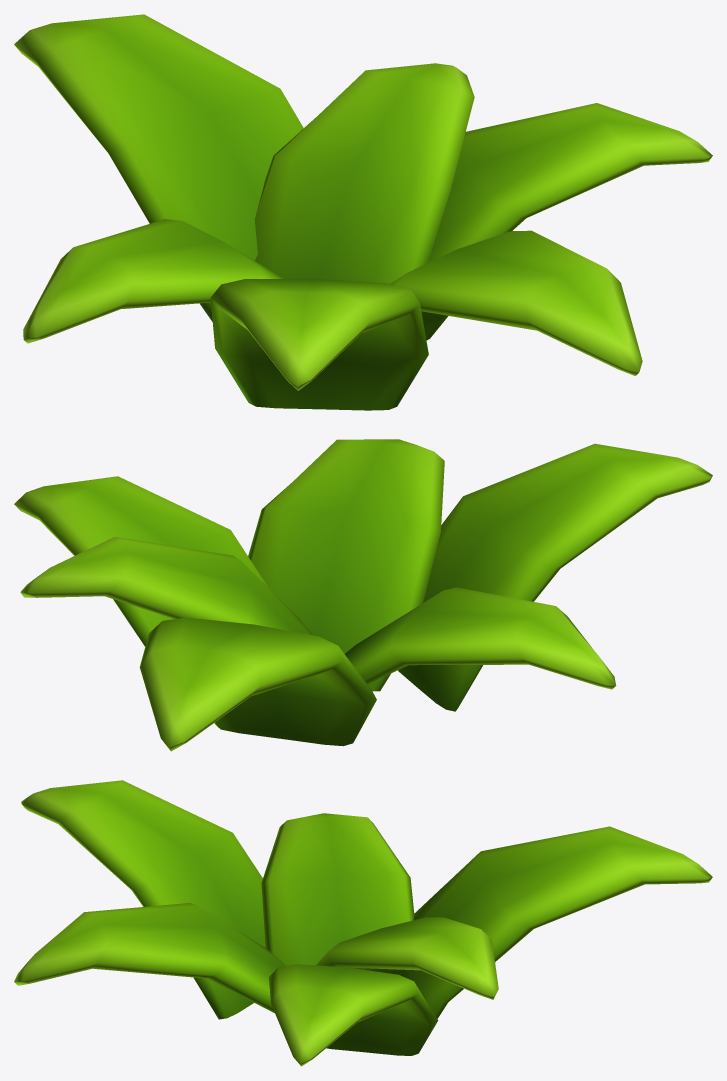
File: SM_Vegetation_Plant_A1_Lime.fbx
The picture shows the model from 3 angles, top to bottom: view 1: azimuth 30°, elevation 25°; view 2: azimuth 150°, elevation 25°; view 3: azimuth 270°, elevation 25°; orthographic projection. The views are drawn at different scales.
Parts seen in each view (by area): view 1: SM_Vegetation_Plant_A1_Lime; view 2: SM_Vegetation_Plant_A1_Lime; view 3: SM_Vegetation_Plant_A1_Lime.
Boxes of the visible parts, x1,y1,x2,y2 form: SM_Vegetation_Plant_A1_Lime: [14, 14, 712, 410]; SM_Vegetation_Plant_A1_Lime: [14, 439, 712, 751]; SM_Vegetation_Plant_A1_Lime: [14, 780, 712, 1066].
Bounding box in the file's own units: 101 × 30.1 × 115.
